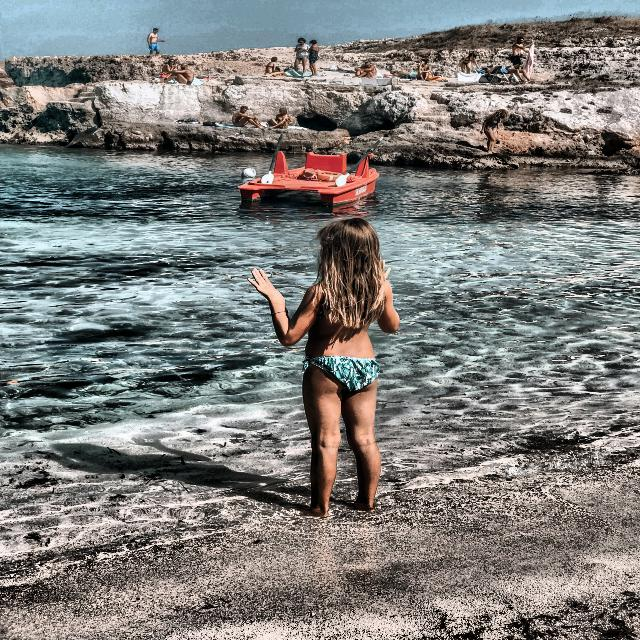Human: (240, 194, 453, 536)
